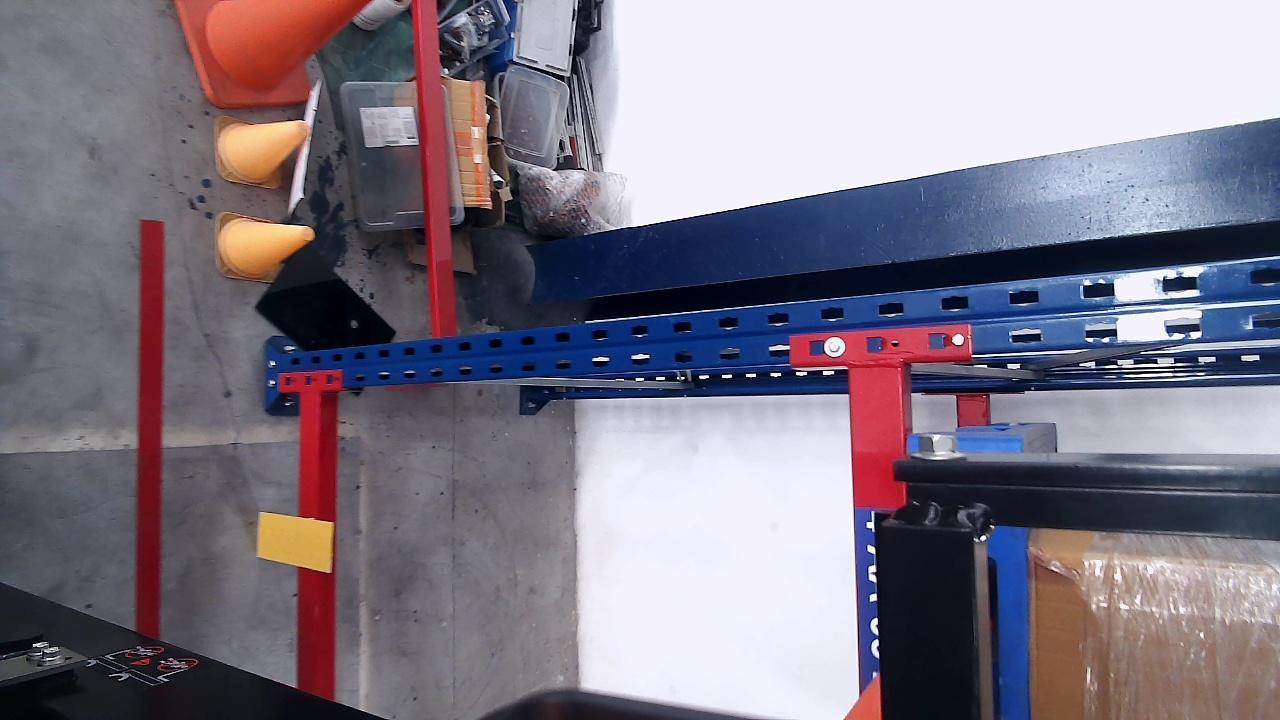red_line: (137, 219, 163, 643)
